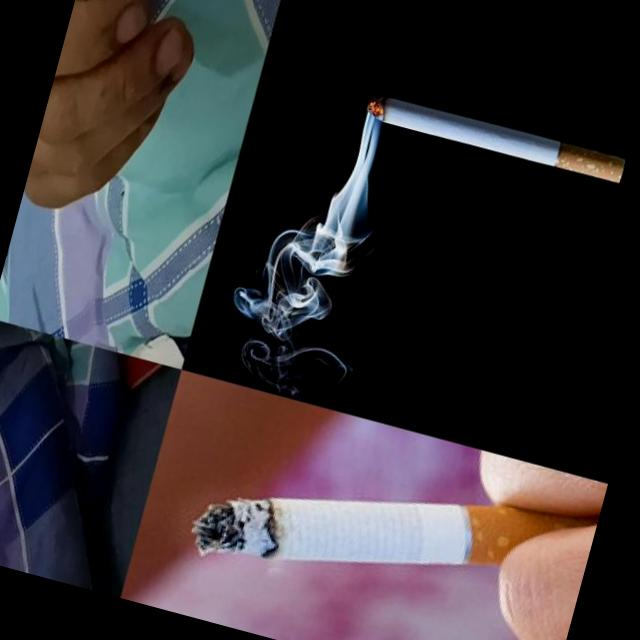cigarette: (182, 429, 518, 636), (364, 90, 626, 184)
